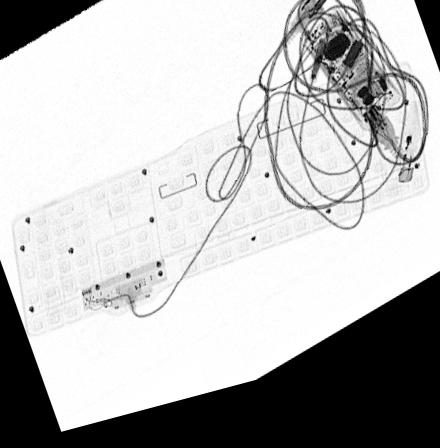Lighter: (399, 123, 424, 205)
